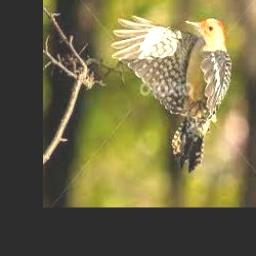Woodpecker: (111, 15, 233, 172)
